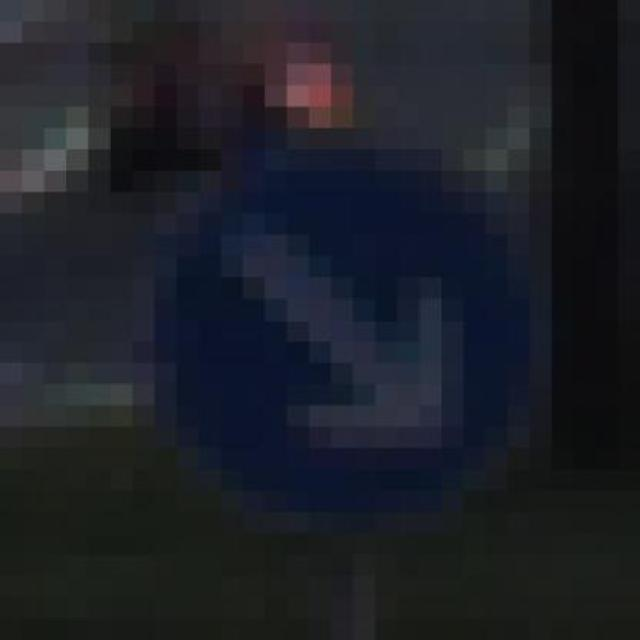Keep-Right: (110, 128, 552, 534)
